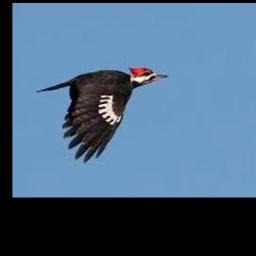Woodpecker: (36, 67, 166, 162)
